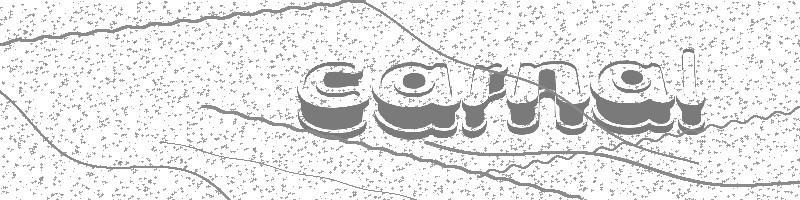a: (373, 59, 459, 141), (591, 57, 676, 136)
c: (295, 59, 370, 141)
l: (674, 47, 707, 137)
r: (505, 55, 590, 140), (460, 61, 508, 138)
